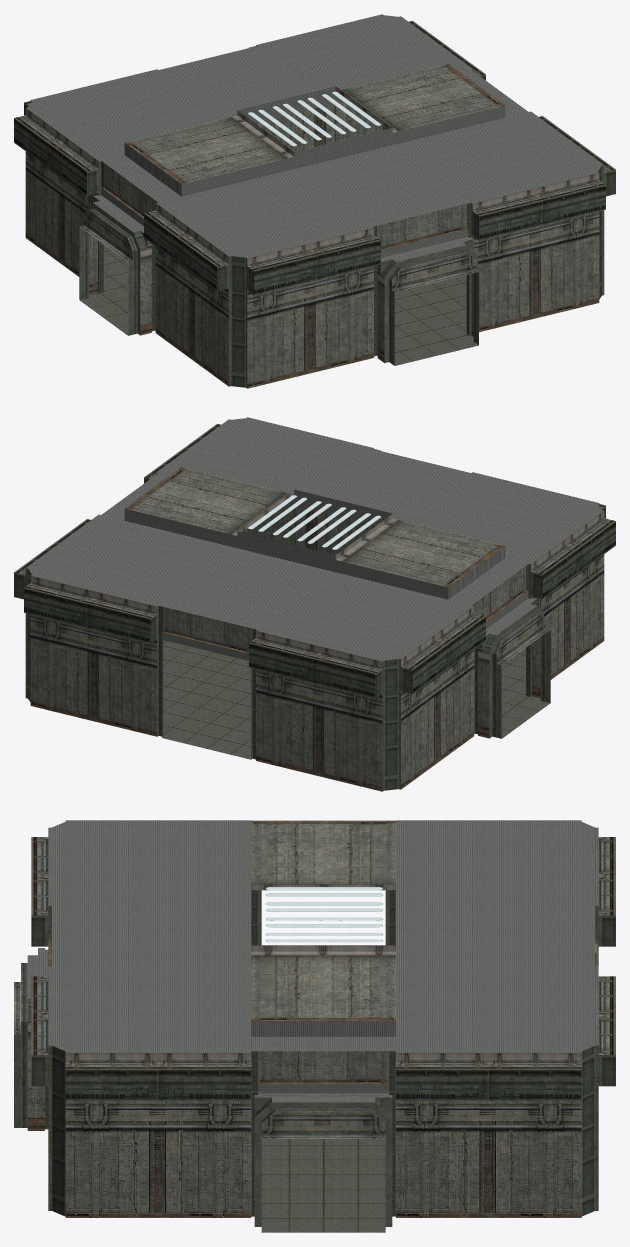
The model's file is poi_all_impl_bunker_crimelord_retreat_s01_r33_elevatorroom02_mesh_r33.fbx.
The picture shows the model from 3 angles, top to bottom: view 1: azimuth 30°, elevation 25°; view 2: azimuth 150°, elevation 25°; view 3: azimuth 270°, elevation 25°; orthographic projection. The views are drawn at different scales.
Visible parts, largest first — view 1: mesh_node; view 2: mesh_node; view 3: mesh_node.
Boxes of the visible parts, bbox=[...] form: mesh_node: bbox=[14, 14, 615, 388]; mesh_node: bbox=[14, 417, 615, 791]; mesh_node: bbox=[14, 820, 615, 1232].
Size of the model in its own units: 18 by 6 by 17.5.
